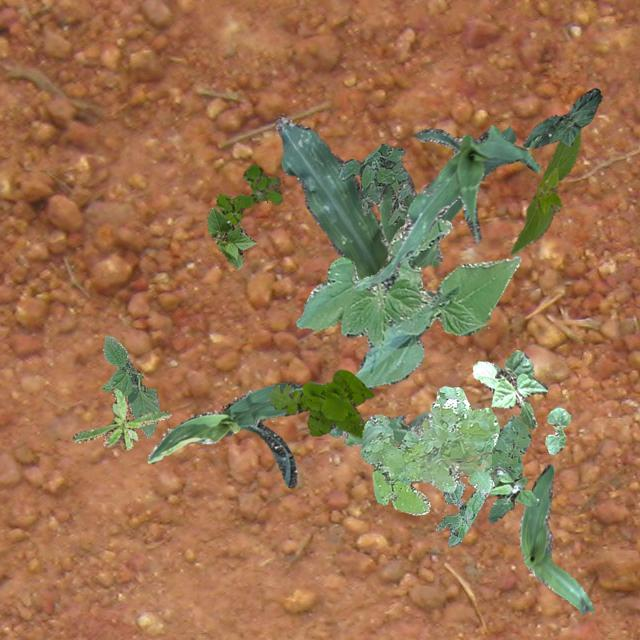crop: (274, 116, 514, 296), (294, 218, 520, 388), (353, 124, 540, 288), (146, 381, 302, 486), (518, 464, 592, 614), (510, 125, 580, 254), (472, 348, 546, 428), (100, 334, 158, 436), (522, 88, 600, 148), (326, 412, 428, 446), (206, 206, 256, 268), (544, 406, 570, 454)
weed: (359, 384, 498, 514), (268, 368, 374, 438), (72, 386, 170, 448), (338, 144, 410, 223), (216, 163, 282, 224), (434, 478, 488, 546), (486, 460, 538, 522), (488, 413, 530, 478)
